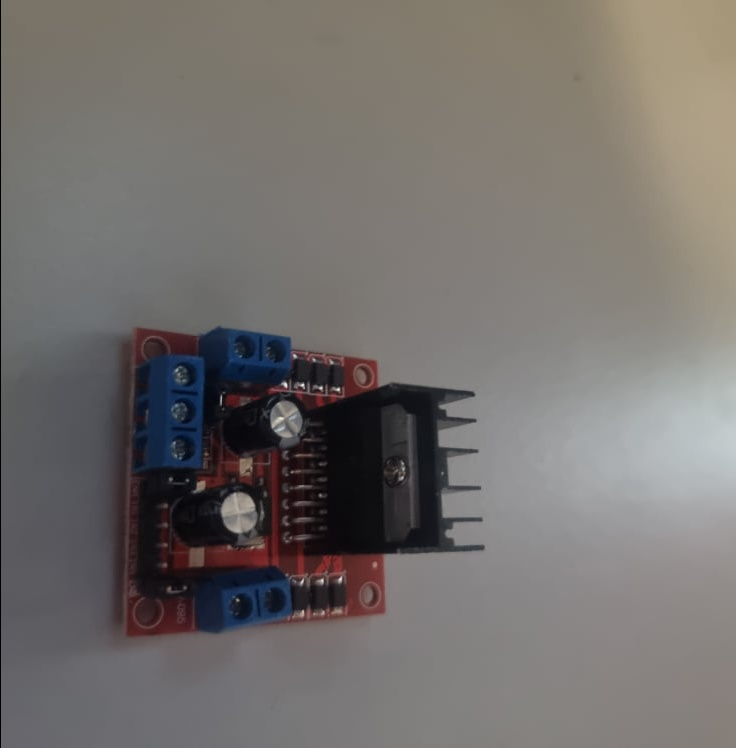MOTOR: (123, 326, 485, 636)
